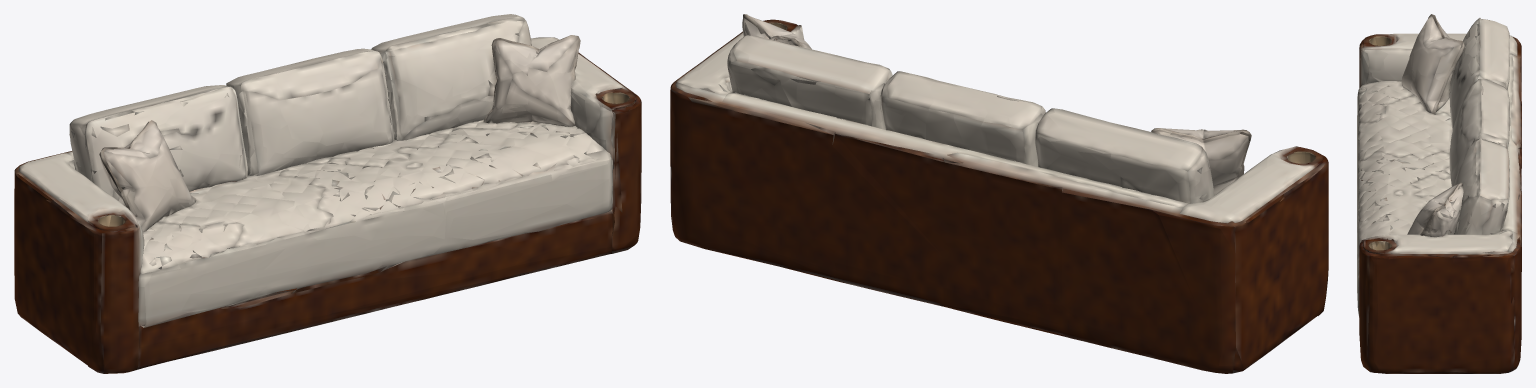
Rendered from cab_divan.glb.
The picture shows the model from 3 angles, left to right: view 1: azimuth 30°, elevation 25°; view 2: azimuth 150°, elevation 25°; view 3: azimuth 270°, elevation 25°; orthographic projection. The views are drawn at different scales.
Parts seen in each view (by area): view 1: LO; view 2: LO; view 3: LO.
Part boxes in pixels (<box>): LO: <box>14,14,641,373</box>; LO: <box>670,14,1328,373</box>; LO: <box>1357,14,1521,373</box>.
Bounding box in the file's own units: 2.1 × 0.7144 × 0.6568.
1 material, 1 textured.
